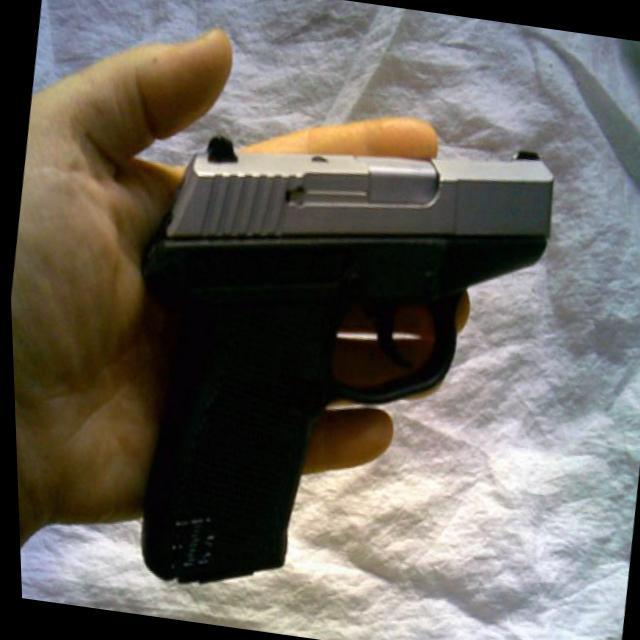weapon: (88, 92, 572, 628)
